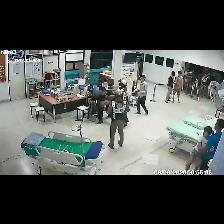person: (107, 90, 129, 149), (199, 120, 223, 170), (186, 127, 213, 170), (135, 75, 148, 115), (96, 87, 109, 124), (173, 72, 183, 102), (166, 71, 175, 103), (119, 80, 128, 101)
